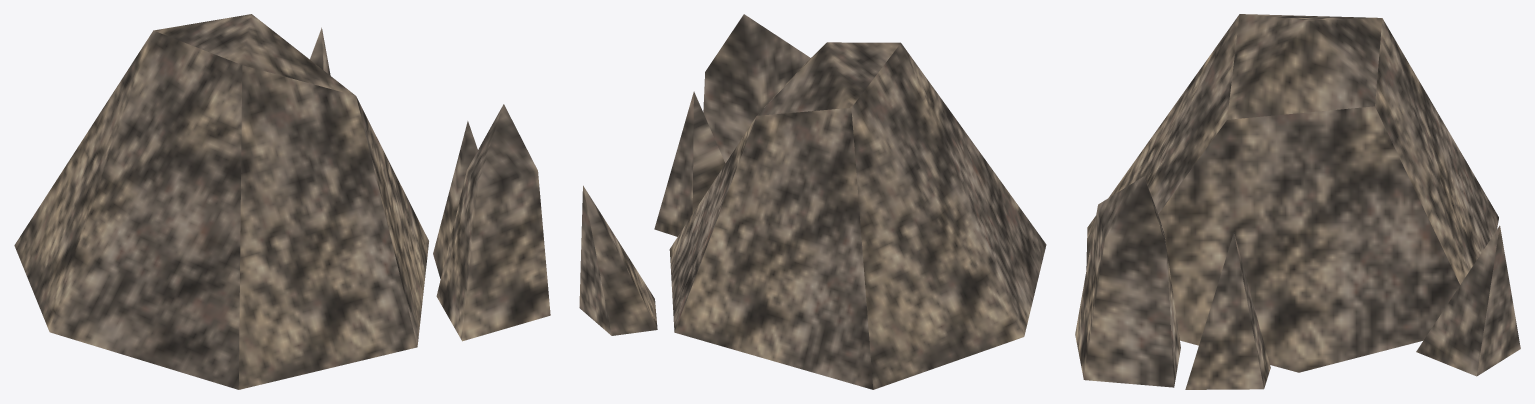
File: rock_vformation1.glb
3 views of the same model, side by side, from view 1: azimuth 30°, elevation 25°; view 2: azimuth 150°, elevation 25°; view 3: azimuth 270°, elevation 25° (orthographic). The views are drawn at different scales.
Visible parts, largest first — view 1: Rock_VFormation1; view 2: Rock_VFormation1; view 3: Rock_VFormation1.
Part boxes in pixels (bbox=[...]): Rock_VFormation1: bbox=[14, 14, 550, 389]; Rock_VFormation1: bbox=[579, 14, 1046, 389]; Rock_VFormation1: bbox=[1075, 14, 1520, 389].
Bounding box in the file's own units: 24.77 × 15.21 × 22.97.
Materials: 1 (1 with a texture image).
